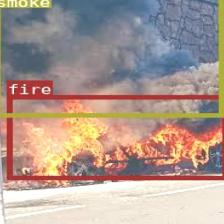fire: (6, 94, 224, 179)
smoke: (0, 0, 223, 116)
